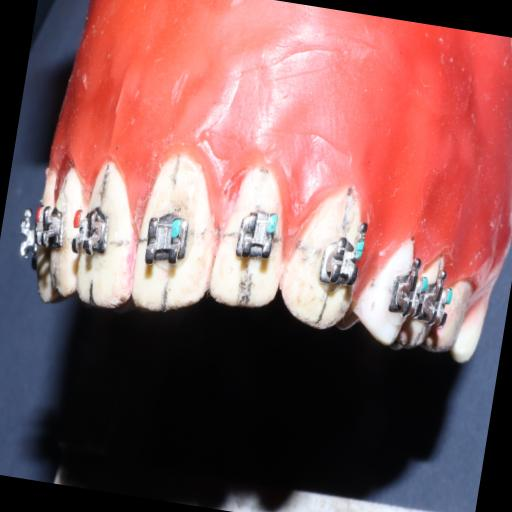incorrect_brace: (128, 148, 226, 325), (143, 209, 192, 270), (233, 210, 278, 268)
